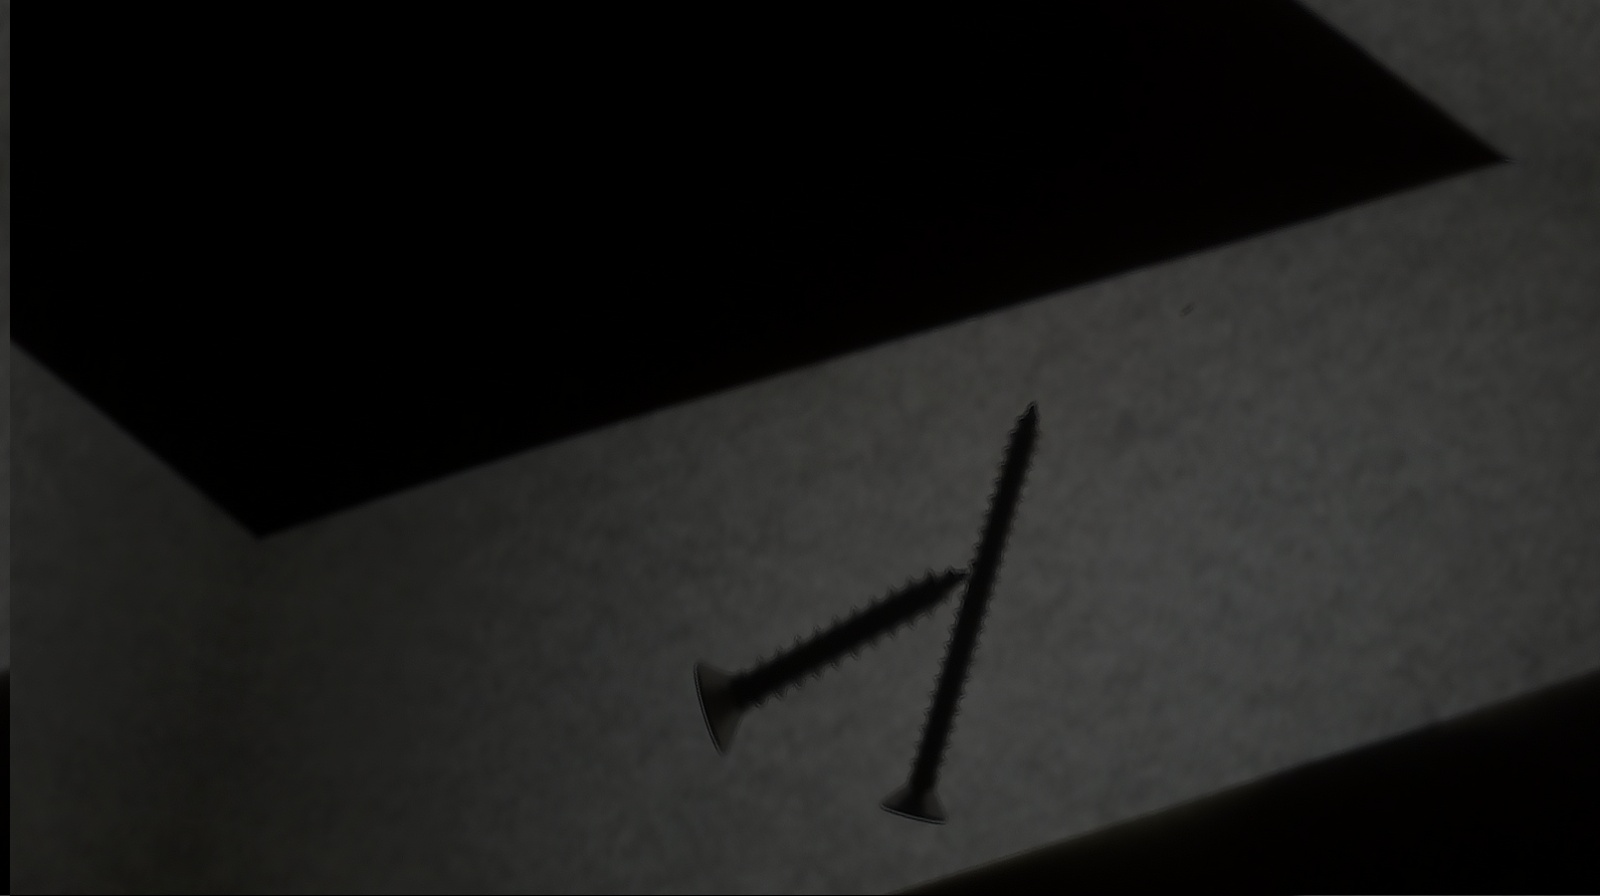S001: (662, 516, 976, 798)
S002: (870, 386, 1055, 830)
